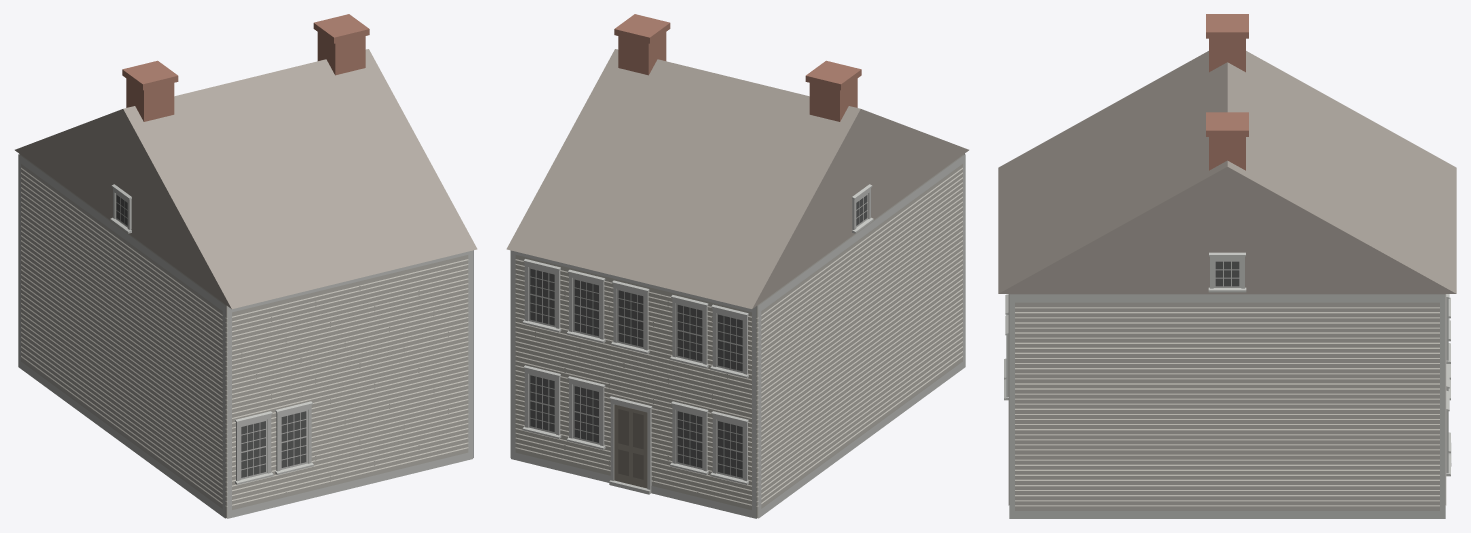
Rendered from recon_1835_blk_washington_franklin_d7_04__inferred_1835.glb.
3 views of the same model, side by side, from view 1: azimuth 30°, elevation 25°; view 2: azimuth 150°, elevation 25°; view 3: azimuth 270°, elevation 25° (orthographic). The views are drawn at different scales.
Parts seen in each view (by area): view 1: recon_1835_blk_washington_franklin_d7_04__inferred_1835; view 2: recon_1835_blk_washington_franklin_d7_04__inferred_1835; view 3: recon_1835_blk_washington_franklin_d7_04__inferred_1835.
Part boxes in pixels (left/top/right/bottom): recon_1835_blk_washington_franklin_d7_04__inferred_1835: left=15, top=14, right=477, bottom=518; recon_1835_blk_washington_franklin_d7_04__inferred_1835: left=506, top=14, right=968, bottom=518; recon_1835_blk_washington_franklin_d7_04__inferred_1835: left=998, top=14, right=1456, bottom=518.
Bounding box in the file's own units: 6.98 × 9.57 × 10.38.
